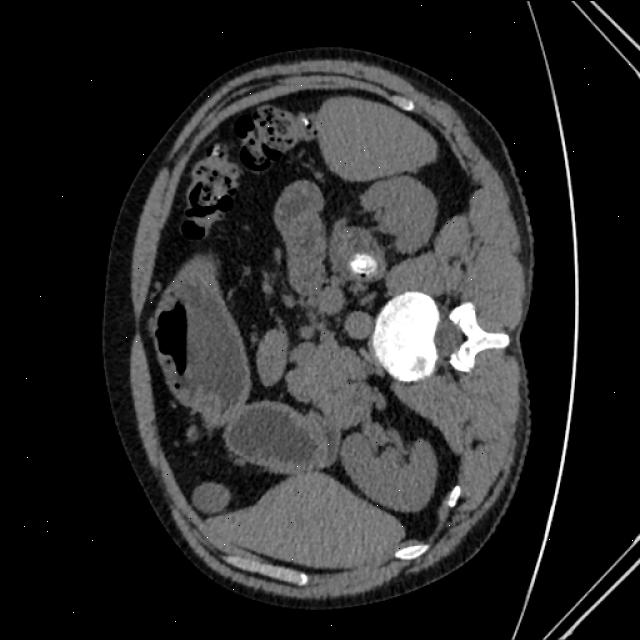kidneystone: (351, 254, 377, 275)
